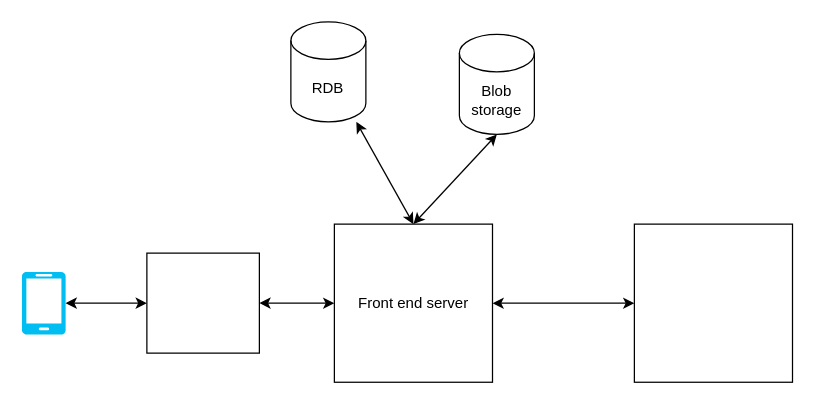
This 814x405 diagram has some shape labels left out. Here are the shapes that lost their labels. From the top down, the centre of each, then its label:
At point 202,302: "Load Balancer".
At point 712,302: "Back end ML server or service".
